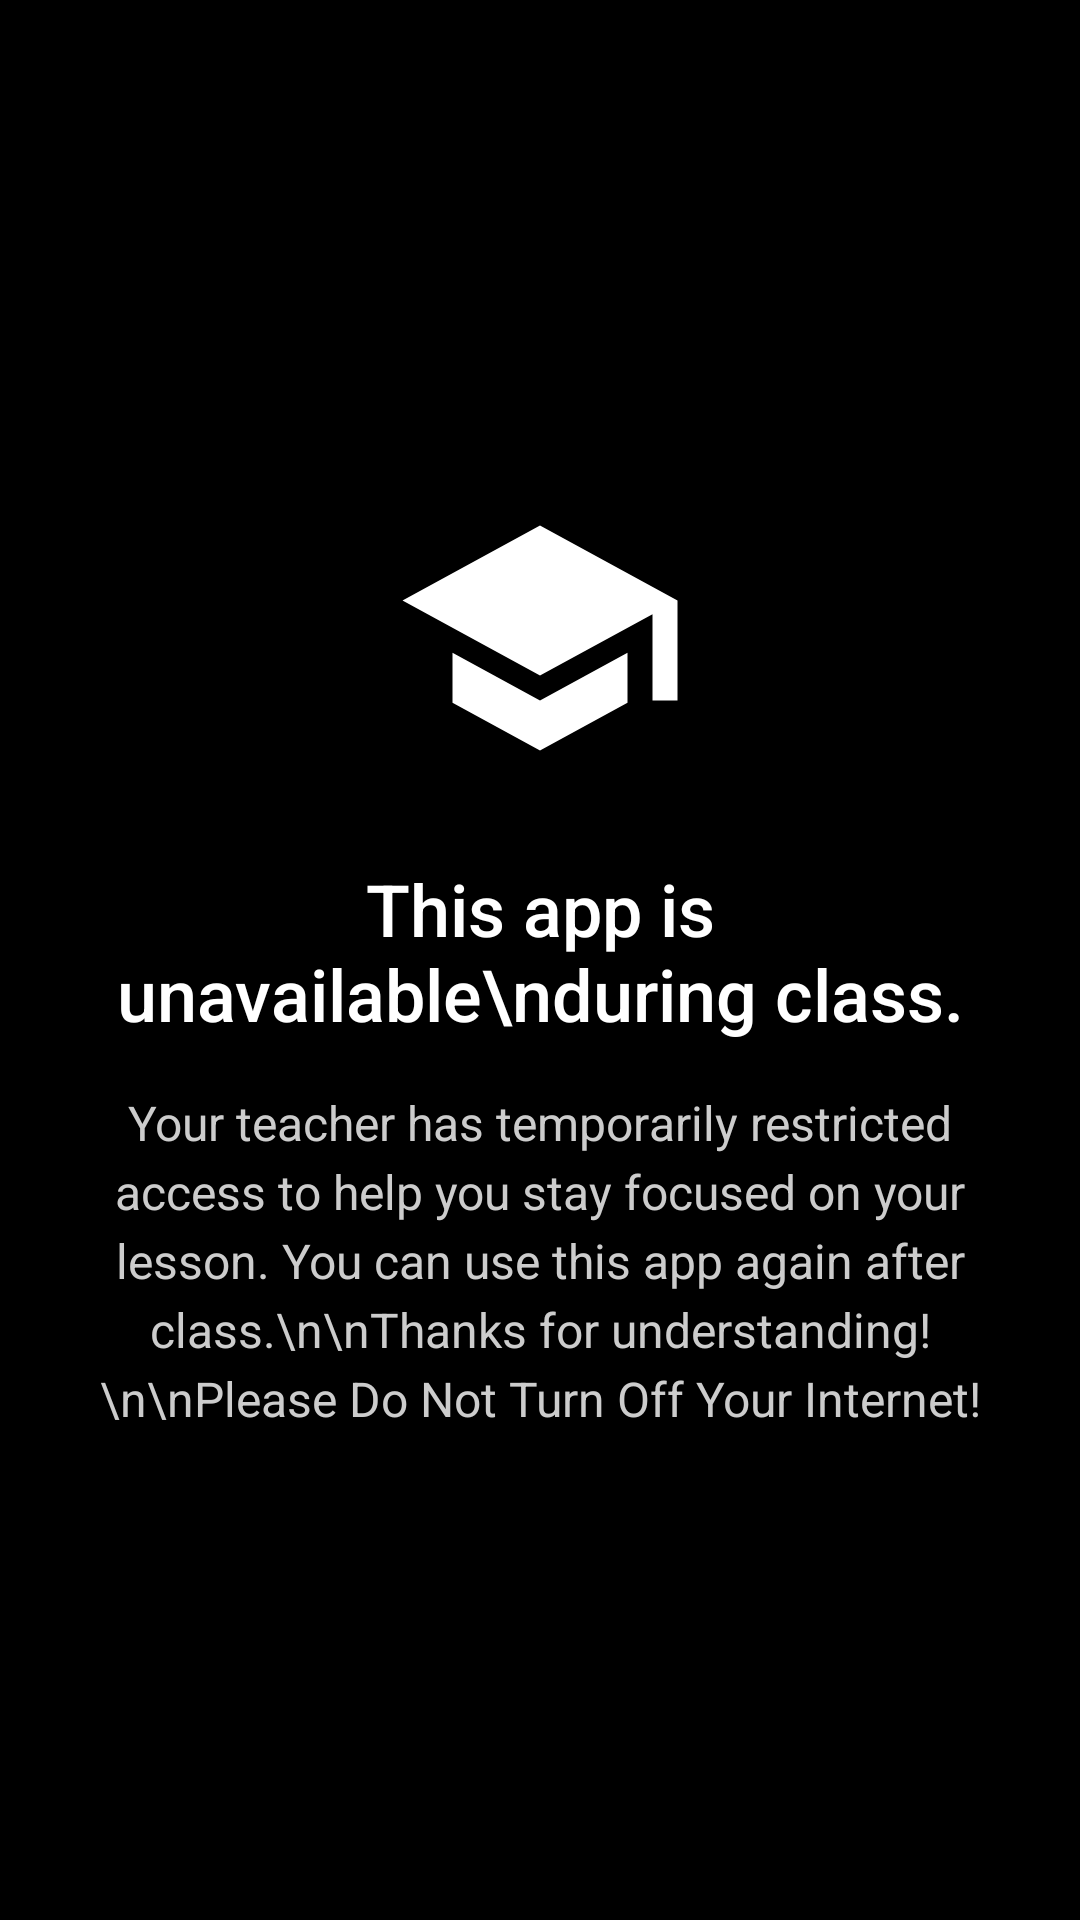

Where to tap for icons on this 1080*1920 app screen, as point (x, y):
Student icon: point (540, 638)
